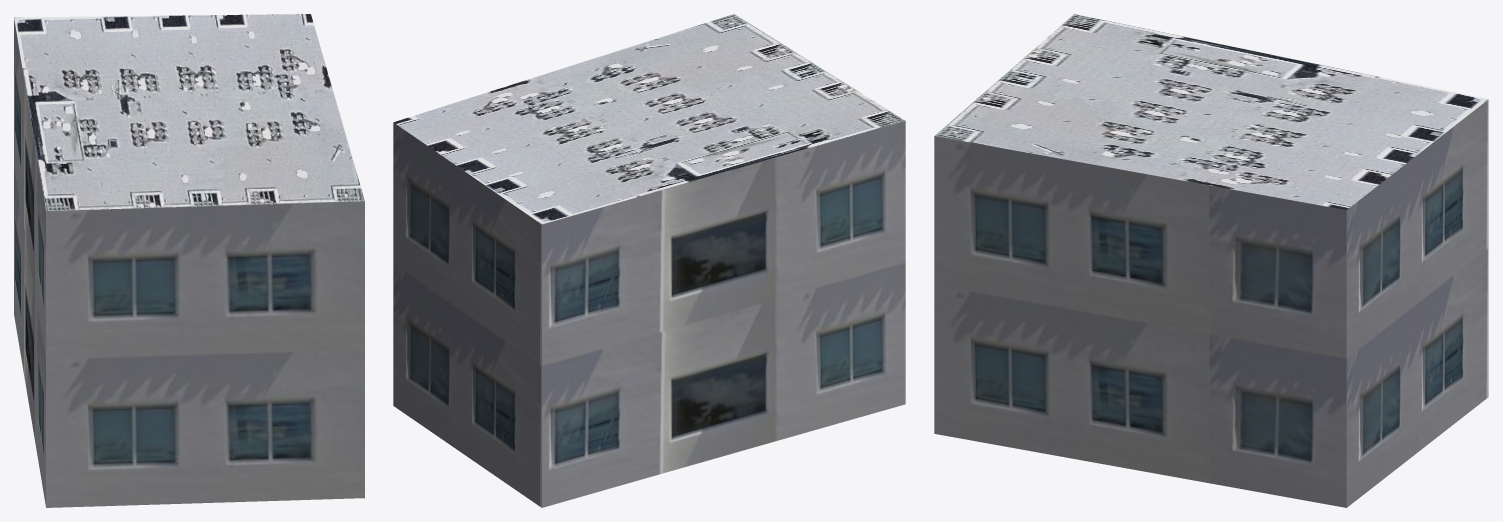
File: ResTex__5310.fbx
The picture shows the model from 3 angles, left to right: view 1: azimuth 30°, elevation 25°; view 2: azimuth 150°, elevation 25°; view 3: azimuth 270°, elevation 25°; orthographic projection. The views are drawn at different scales.
Parts seen in each view (by area): view 1: CityEngineMaterial_10_m, CityEngineMaterial_4_m; view 2: CityEngineMaterial_10_m, CityEngineMaterial_4_m; view 3: CityEngineMaterial_10_m, CityEngineMaterial_4_m.
Part boxes in pixels (box(x1,y1,x2,y2)): CityEngineMaterial_10_m: box(14, 18, 364, 507); CityEngineMaterial_4_m: box(14, 14, 364, 210); CityEngineMaterial_10_m: box(393, 121, 905, 507); CityEngineMaterial_4_m: box(394, 14, 905, 224); CityEngineMaterial_10_m: box(934, 99, 1488, 507); CityEngineMaterial_4_m: box(935, 14, 1487, 209).
Size of the model in its own units: 8.47 by 6 by 10.12.
2 materials, 2 textured.
